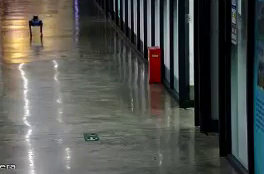robot dog: (27, 15, 43, 35)
